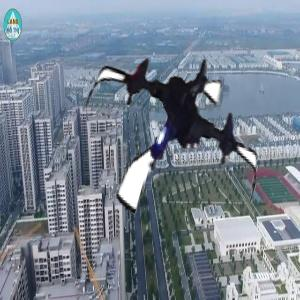drone: (74, 41, 273, 240)
